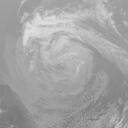cyclone: (21, 15, 95, 95)
